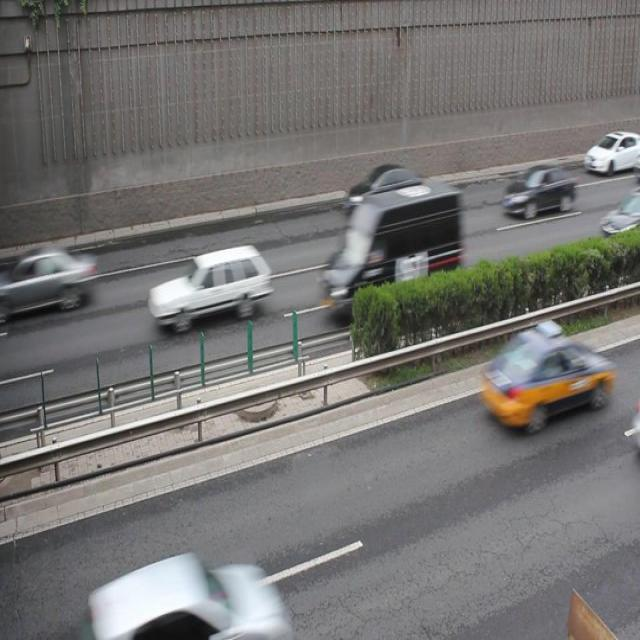car: (83, 547, 286, 640), (479, 322, 605, 428), (150, 243, 270, 334), (10, 242, 96, 316), (347, 163, 426, 219), (501, 165, 576, 220), (582, 130, 640, 174)
truck: (317, 184, 461, 315)
